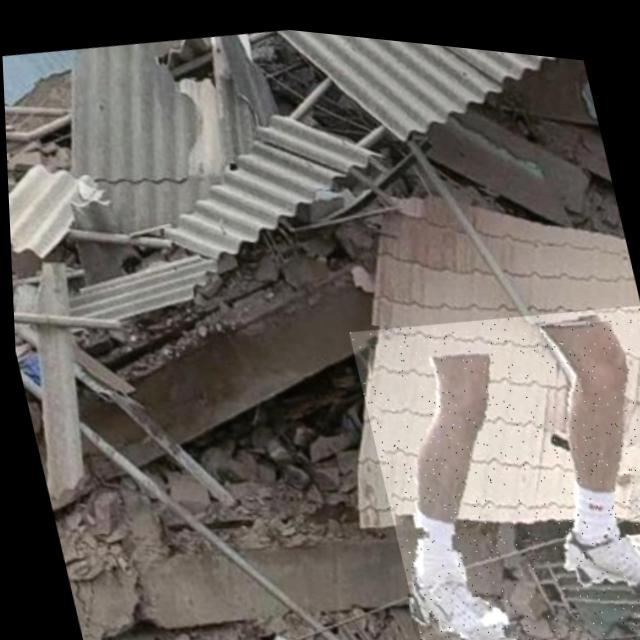Person in Rubble: (344, 267, 640, 640)
